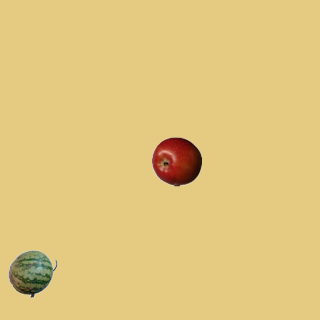Apple Braeburn: (151, 136, 201, 186)
Watermelon: (7, 248, 57, 298)
